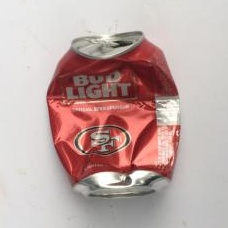Metal: (37, 16, 187, 215)
